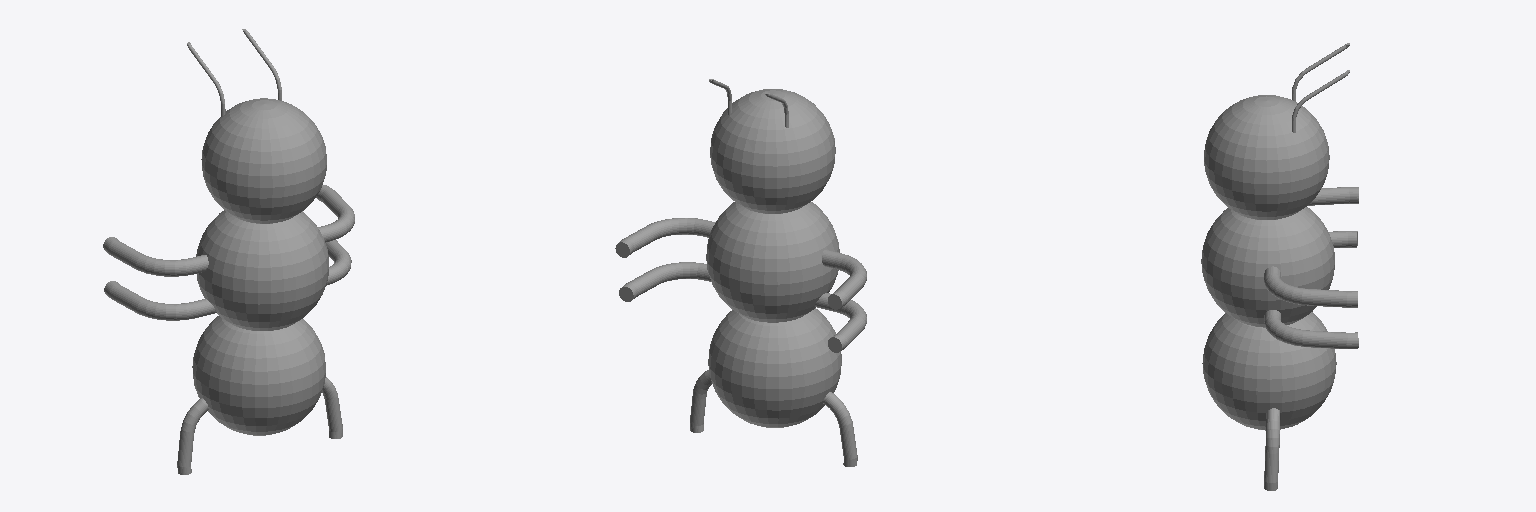
The model's file is piss.obj.
3 views of the same model, side by side, from view 1: azimuth 30°, elevation 25°; view 2: azimuth 150°, elevation 25°; view 3: azimuth 270°, elevation 25° (orthographic).
Parts seen in each view (by area): view 1: Cylinder.005_Cylinder.004; view 2: Cylinder.005_Cylinder.004; view 3: Cylinder.005_Cylinder.004.
Boxes of the visible parts, box(x1,y1,x2,y2) form: Cylinder.005_Cylinder.004: box(103, 29, 354, 474); Cylinder.005_Cylinder.004: box(615, 79, 866, 466); Cylinder.005_Cylinder.004: box(1201, 43, 1358, 490).
Size of the model in its own units: 0.7864 by 1.29 by 0.471.